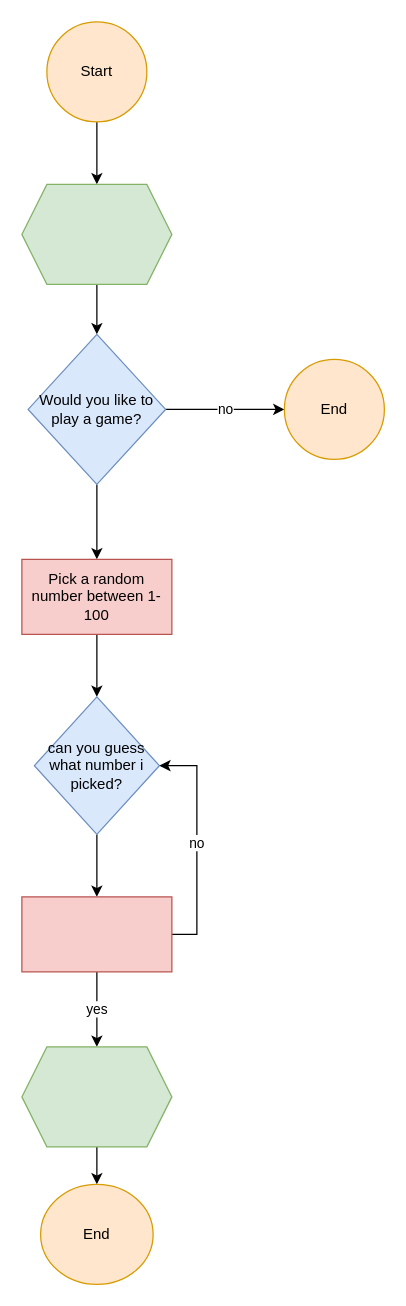
Some shapes in this 406 by 1306 pixel diagram are drawn without their labels. Here are the shapes that lost their labels. From the top down, the centre of each, then its label:
At point (96, 233): "Output Welcome/Enter Name".
At point (96, 934): "Is the number correct?".
At point (96, 1096): "Output Congratulations!".
